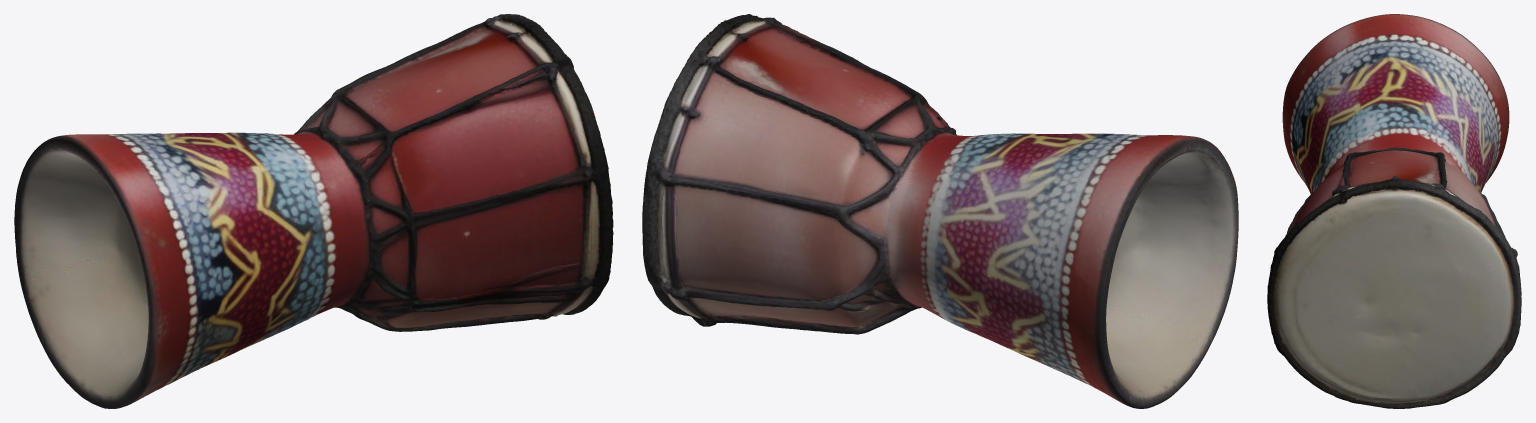
Rendered from Tifa.glb.
3 renders of one model, left to right at view 1: azimuth 30°, elevation 25°; view 2: azimuth 150°, elevation 25°; view 3: azimuth 270°, elevation 25°, orthographic. The views are drawn at different scales.
Parts seen in each view (by area): view 1: mesh; view 2: mesh; view 3: mesh.
Part boxes in pixels (x1,y1,x2,y2): mesh: (14,14,613,408); mesh: (642,14,1238,408); mesh: (1267,14,1521,408).
Size of the model in its own units: 1 by 0.5748 by 0.5843.
Materials: 1 (1 with a texture image).
